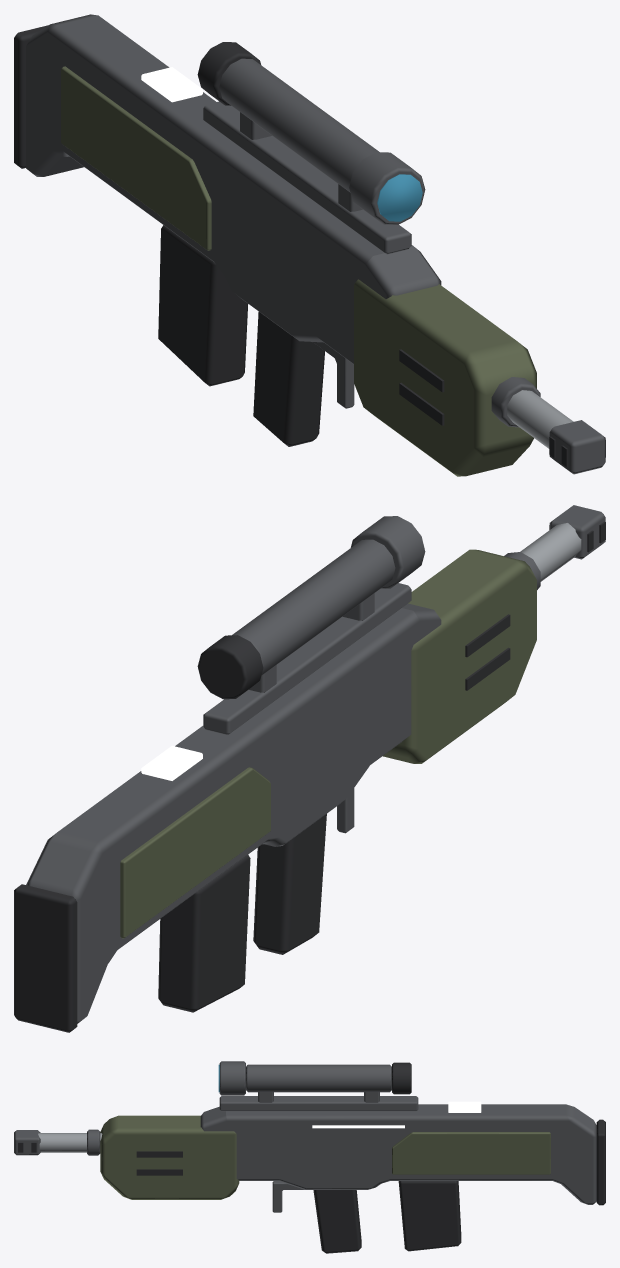
The model's file is SM_SB_BattleRifle.fbx.
The picture shows the model from 3 angles, top to bottom: view 1: azimuth 30°, elevation 25°; view 2: azimuth 150°, elevation 25°; view 3: azimuth 270°, elevation 25°; orthographic projection. The views are drawn at different scales.
Visible parts, largest first — view 1: SM_SB_BattleRifle; view 2: SM_SB_BattleRifle; view 3: SM_SB_BattleRifle.
Boxes of the visible parts, x1=… form: SM_SB_BattleRifle: x1=14, y1=14, x2=605, y2=476; SM_SB_BattleRifle: x1=14, y1=505, x2=605, y2=1032; SM_SB_BattleRifle: x1=14, y1=1061, x2=605, y2=1253.
Bounding box in the file's own units: 6.4 × 89.3 × 31.25.
